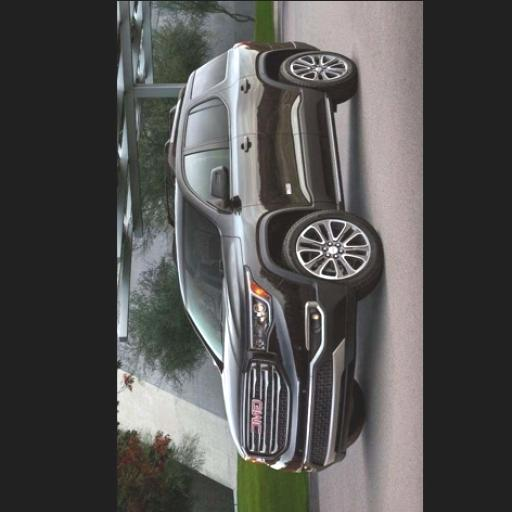suv: (166, 41, 381, 469)
